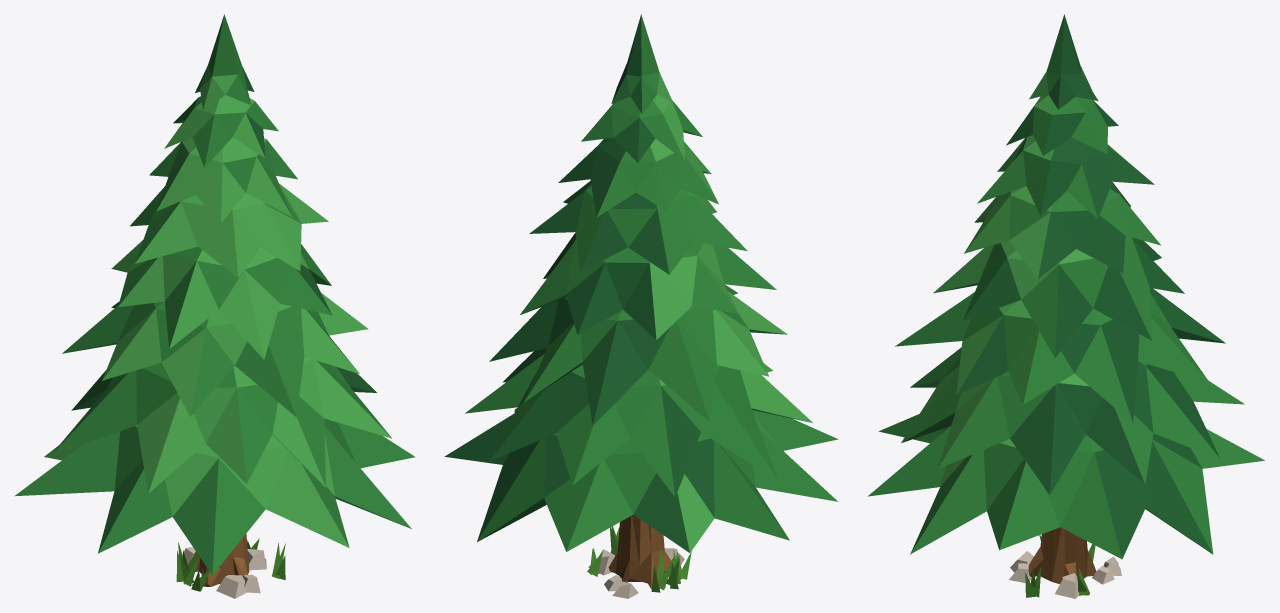
File: pine_bloom.glb
The picture shows the model from 3 angles, left to right: view 1: azimuth 30°, elevation 25°; view 2: azimuth 150°, elevation 25°; view 3: azimuth 270°, elevation 25°; orthographic projection.
Visible parts, largest first — view 1: pine_bloom; view 2: pine_bloom; view 3: pine_bloom.
Part boxes in pixels (bbox=[...]): pine_bloom: bbox=[14, 14, 415, 598]; pine_bloom: bbox=[444, 14, 838, 598]; pine_bloom: bbox=[867, 14, 1264, 598].
Size of the model in its own units: 4.85 by 7.52 by 4.81.
